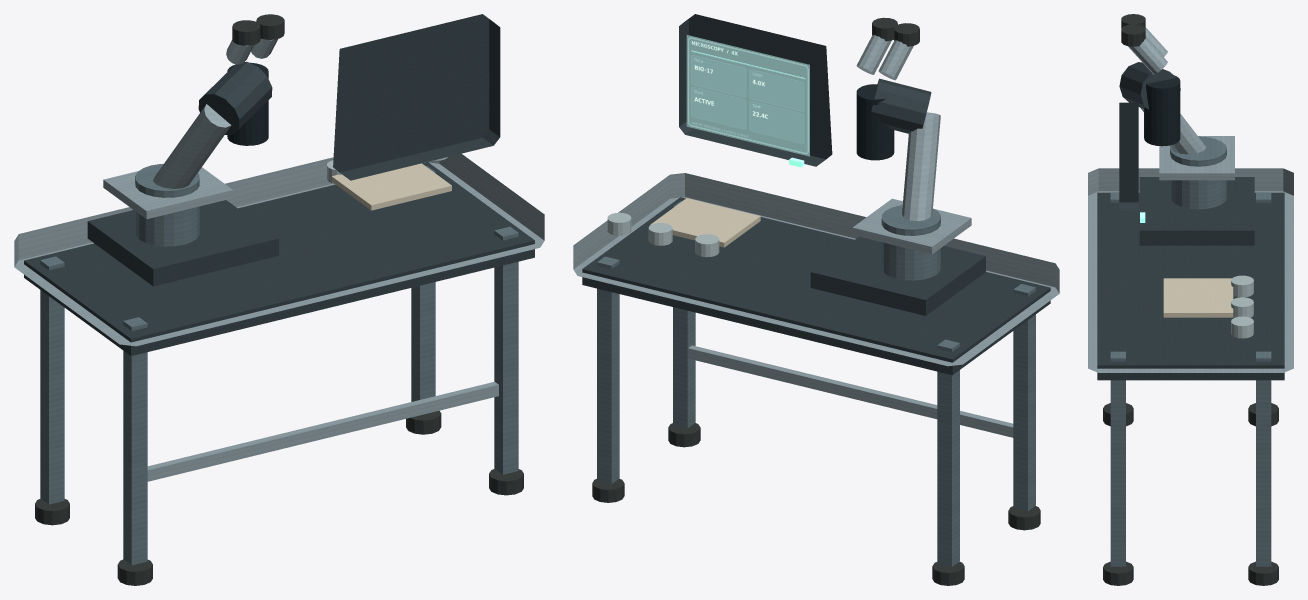
Rendered from microscope_station.glb.
The picture shows the model from 3 angles, left to right: view 1: azimuth 30°, elevation 25°; view 2: azimuth 150°, elevation 25°; view 3: azimuth 270°, elevation 25°; orthographic projection. The views are drawn at different scales.
Visible parts, largest first — view 1: static__graphite, Display__graphite, static__trim, work_surface__alloy, Microscope_Base__graphite, static__alloy, Prep_Area__cream, Optics__trim, feet__rubber, Optics__graphite, Optics__alloy, Sample_Stage__alloy (+3 smaller); view 2: static__graphite, static__trim, work_surface__alloy, Display__ui_microlab, Display__graphite, Microscope_Base__graphite, static__alloy, Optics__alloy, Optics__trim, Prep_Area__cream, feet__rubber, Sample_Stage__alloy (+5 smaller); view 3: static__graphite, work_surface__alloy, static__trim, Microscope_Base__graphite, Display__graphite, Prep_Area__cream, Optics__trim, Optics__carbon, feet__rubber, Sample_Stage__alloy, Sample_Pots__tank, Optics__graphite (+3 smaller).
Part boxes in pixels (<box>): static__graphite: <box>24,162,534,355</box>; Display__graphite: <box>333,14,500,180</box>; static__trim: <box>40,166,518,564</box>; work_surface__alloy: <box>14,153,544,346</box>; Microscope_Base__graphite: <box>87,200,278,286</box>; static__alloy: <box>147,381,498,481</box>; Prep_Area__cream: <box>331,163,451,210</box>; Optics__trim: <box>135,163,199,246</box>; feet__rubber: <box>35,410,523,585</box>; Optics__graphite: <box>198,61,272,134</box>; Optics__alloy: <box>153,104,231,188</box>; Sample_Stage__alloy: <box>103,167,233,219</box>; static__graphite: <box>582,197,1050,375</box>; static__trim: <box>597,201,1035,566</box>; work_surface__alloy: <box>573,173,1059,366</box>; Display__ui_microlab: <box>686,35,809,156</box>; Display__graphite: <box>679,14,832,166</box>; Microscope_Base__graphite: <box>810,236,985,315</box>; static__alloy: <box>688,345,1013,437</box>; Optics__alloy: <box>902,112,940,221</box>; Optics__trim: <box>881,205,940,280</box>; Prep_Area__cream: <box>650,198,760,247</box>; feet__rubber: <box>592,423,1040,585</box>; Sample_Stage__alloy: <box>852,198,971,254</box>; static__graphite: <box>1097,192,1284,380</box>; work_surface__alloy: <box>1088,168,1293,372</box>; static__trim: <box>1110,193,1271,566</box>; Microscope_Base__graphite: <box>1139,177,1254,245</box>; Display__graphite: <box>1119,102,1138,272</box>; Prep_Area__cream: <box>1163,278,1233,317</box>; Optics__trim: <box>1170,136,1226,209</box>; Optics__carbon: <box>1144,75,1180,146</box>; feet__rubber: <box>1103,403,1278,585</box>; Sample_Stage__alloy: <box>1159,136,1234,180</box>; Sample_Pots__tank: <box>1231,275,1253,338</box>; Optics__graphite: <box>1119,62,1180,109</box>.
Bounding box in the file's own units: 1.42 × 1.65 × 0.68.
10 materials, 9 textured.
